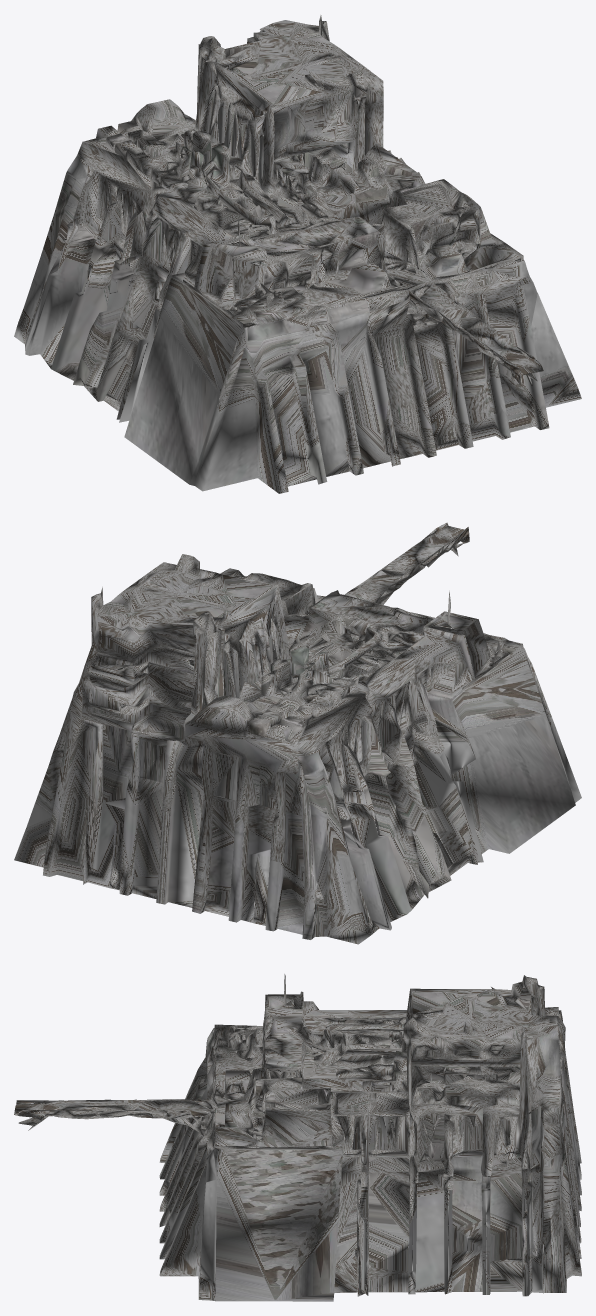
Rendered from morakrefinery.lod1.glb.
3 views of the same model, one above another, from view 1: azimuth 30°, elevation 25°; view 2: azimuth 150°, elevation 25°; view 3: azimuth 270°, elevation 25° (orthographic). The views are drawn at different scales.
Parts seen in each view (by area): view 1: morakrefinery-centred; view 2: morakrefinery-centred; view 3: morakrefinery-centred.
Boxes of the visible parts, x1,y1,x2,y2 form: morakrefinery-centred: (14, 15, 581, 493); morakrefinery-centred: (14, 522, 581, 944); morakrefinery-centred: (14, 974, 581, 1301).
Size of the model in its own units: 84.08 by 56.69 by 120.
Materials: 1 (1 with a texture image).
